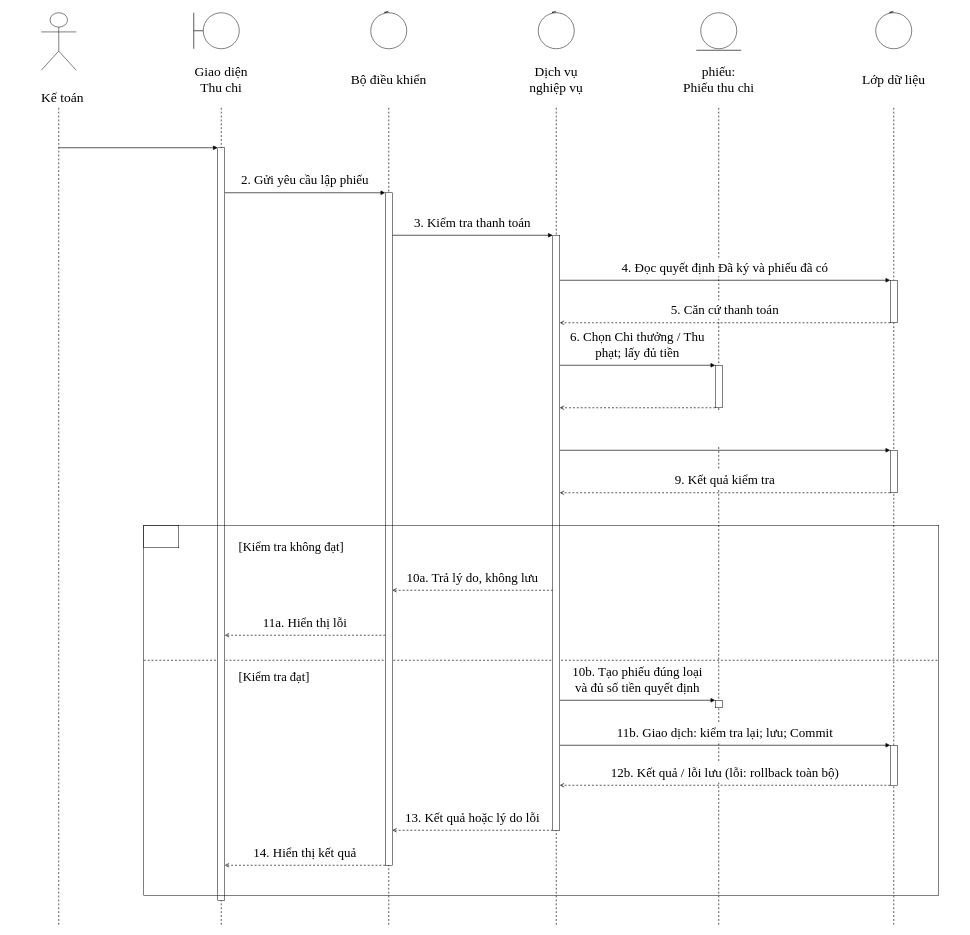
This 970x935 diagram has some shape labels left out. Here are the shapes that lost their labels. From the top down, the box of each, then its label:
(64, 110, 212, 144): 1. Chọn quyết định; nhập số phiếu và ngày lập
(564, 385, 710, 404): 7. Loại phiếu và số tiền
(564, 412, 885, 446): 8. Kiểm tra Trực tiếp, chưa có phiếu, ngày và số không trùng
(143, 525, 179, 548): alt
